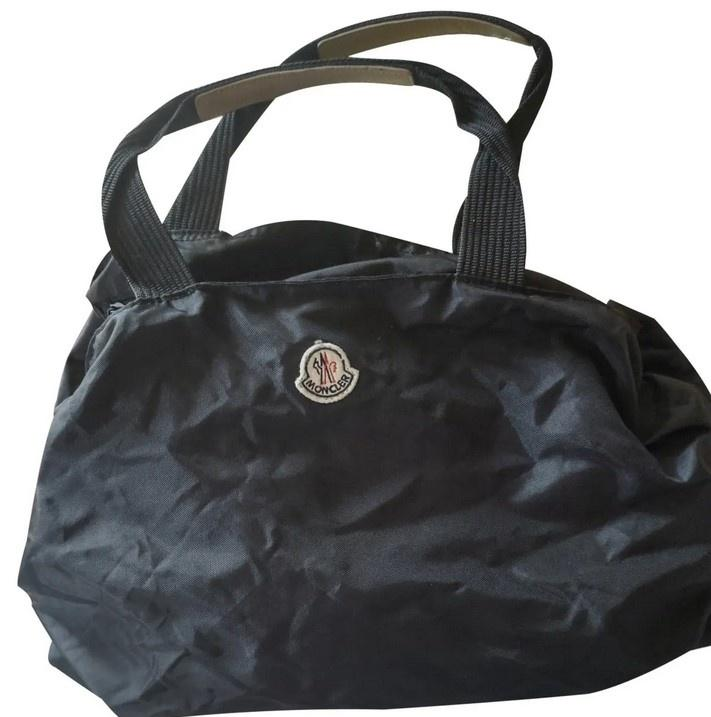MONCLER: (295, 341, 359, 403)
